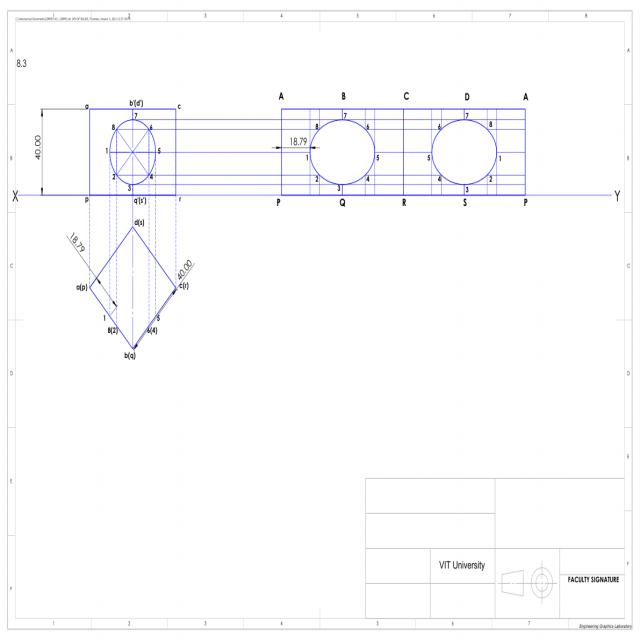Drawings: (57, 86, 537, 365)
